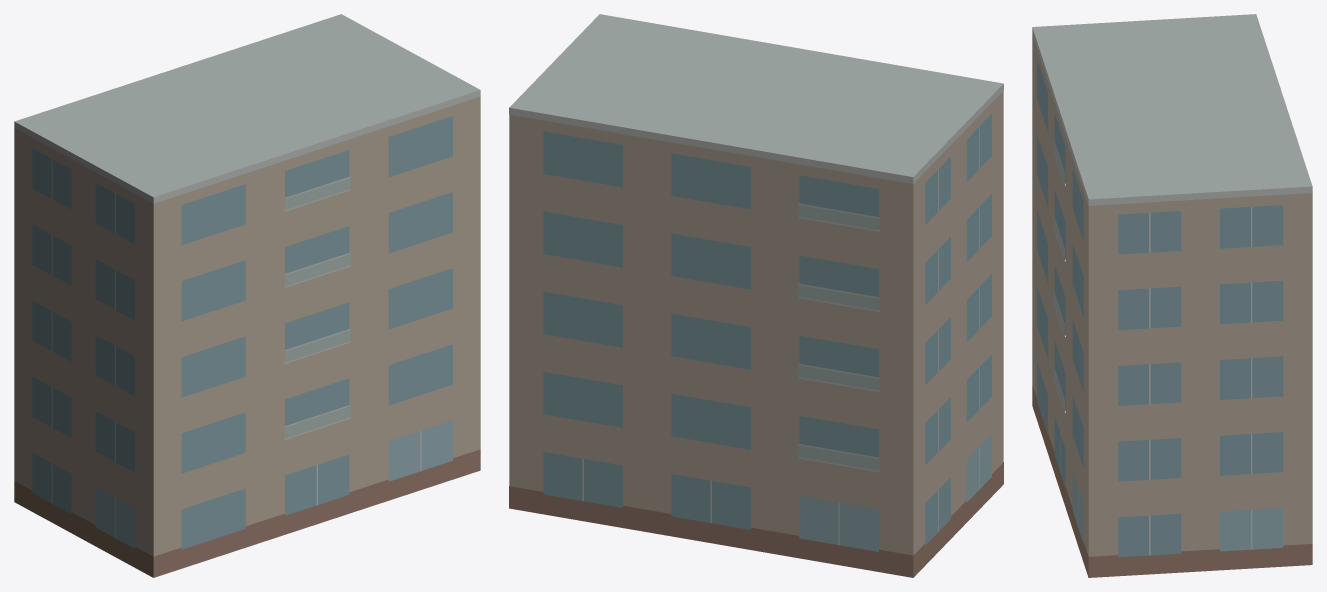
The model's file is survey-upis-32996959.glb.
The picture shows the model from 3 angles, left to right: view 1: azimuth 30°, elevation 25°; view 2: azimuth 150°, elevation 25°; view 3: azimuth 270°, elevation 25°; orthographic projection. The views are drawn at different scales.
Visible parts, largest first — view 1: survey-upis-32996959.tmp; view 2: survey-upis-32996959.tmp; view 3: survey-upis-32996959.tmp.
Boxes of the visible parts, x1,y1,x2,y2 form: survey-upis-32996959.tmp: (14,14,480,577); survey-upis-32996959.tmp: (509,14,1003,577); survey-upis-32996959.tmp: (1032,14,1312,577).
Size of the model in its own units: 15.04 by 14.3 by 9.61.
